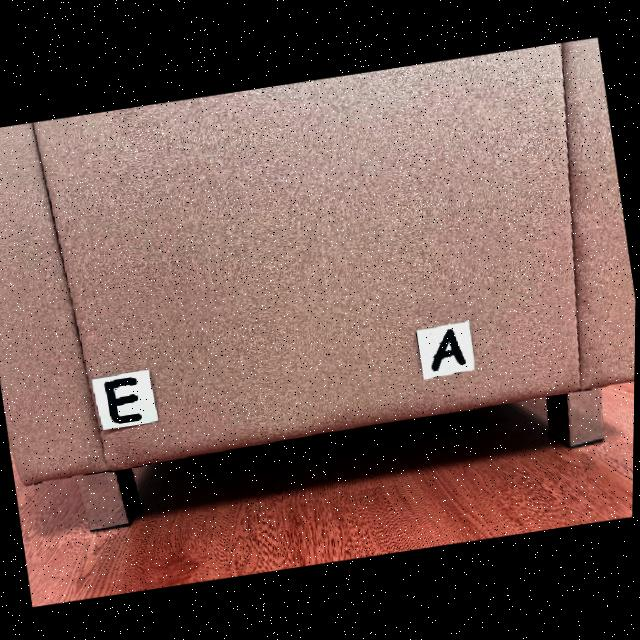A: (433, 329, 466, 369)
E: (106, 377, 143, 423)
